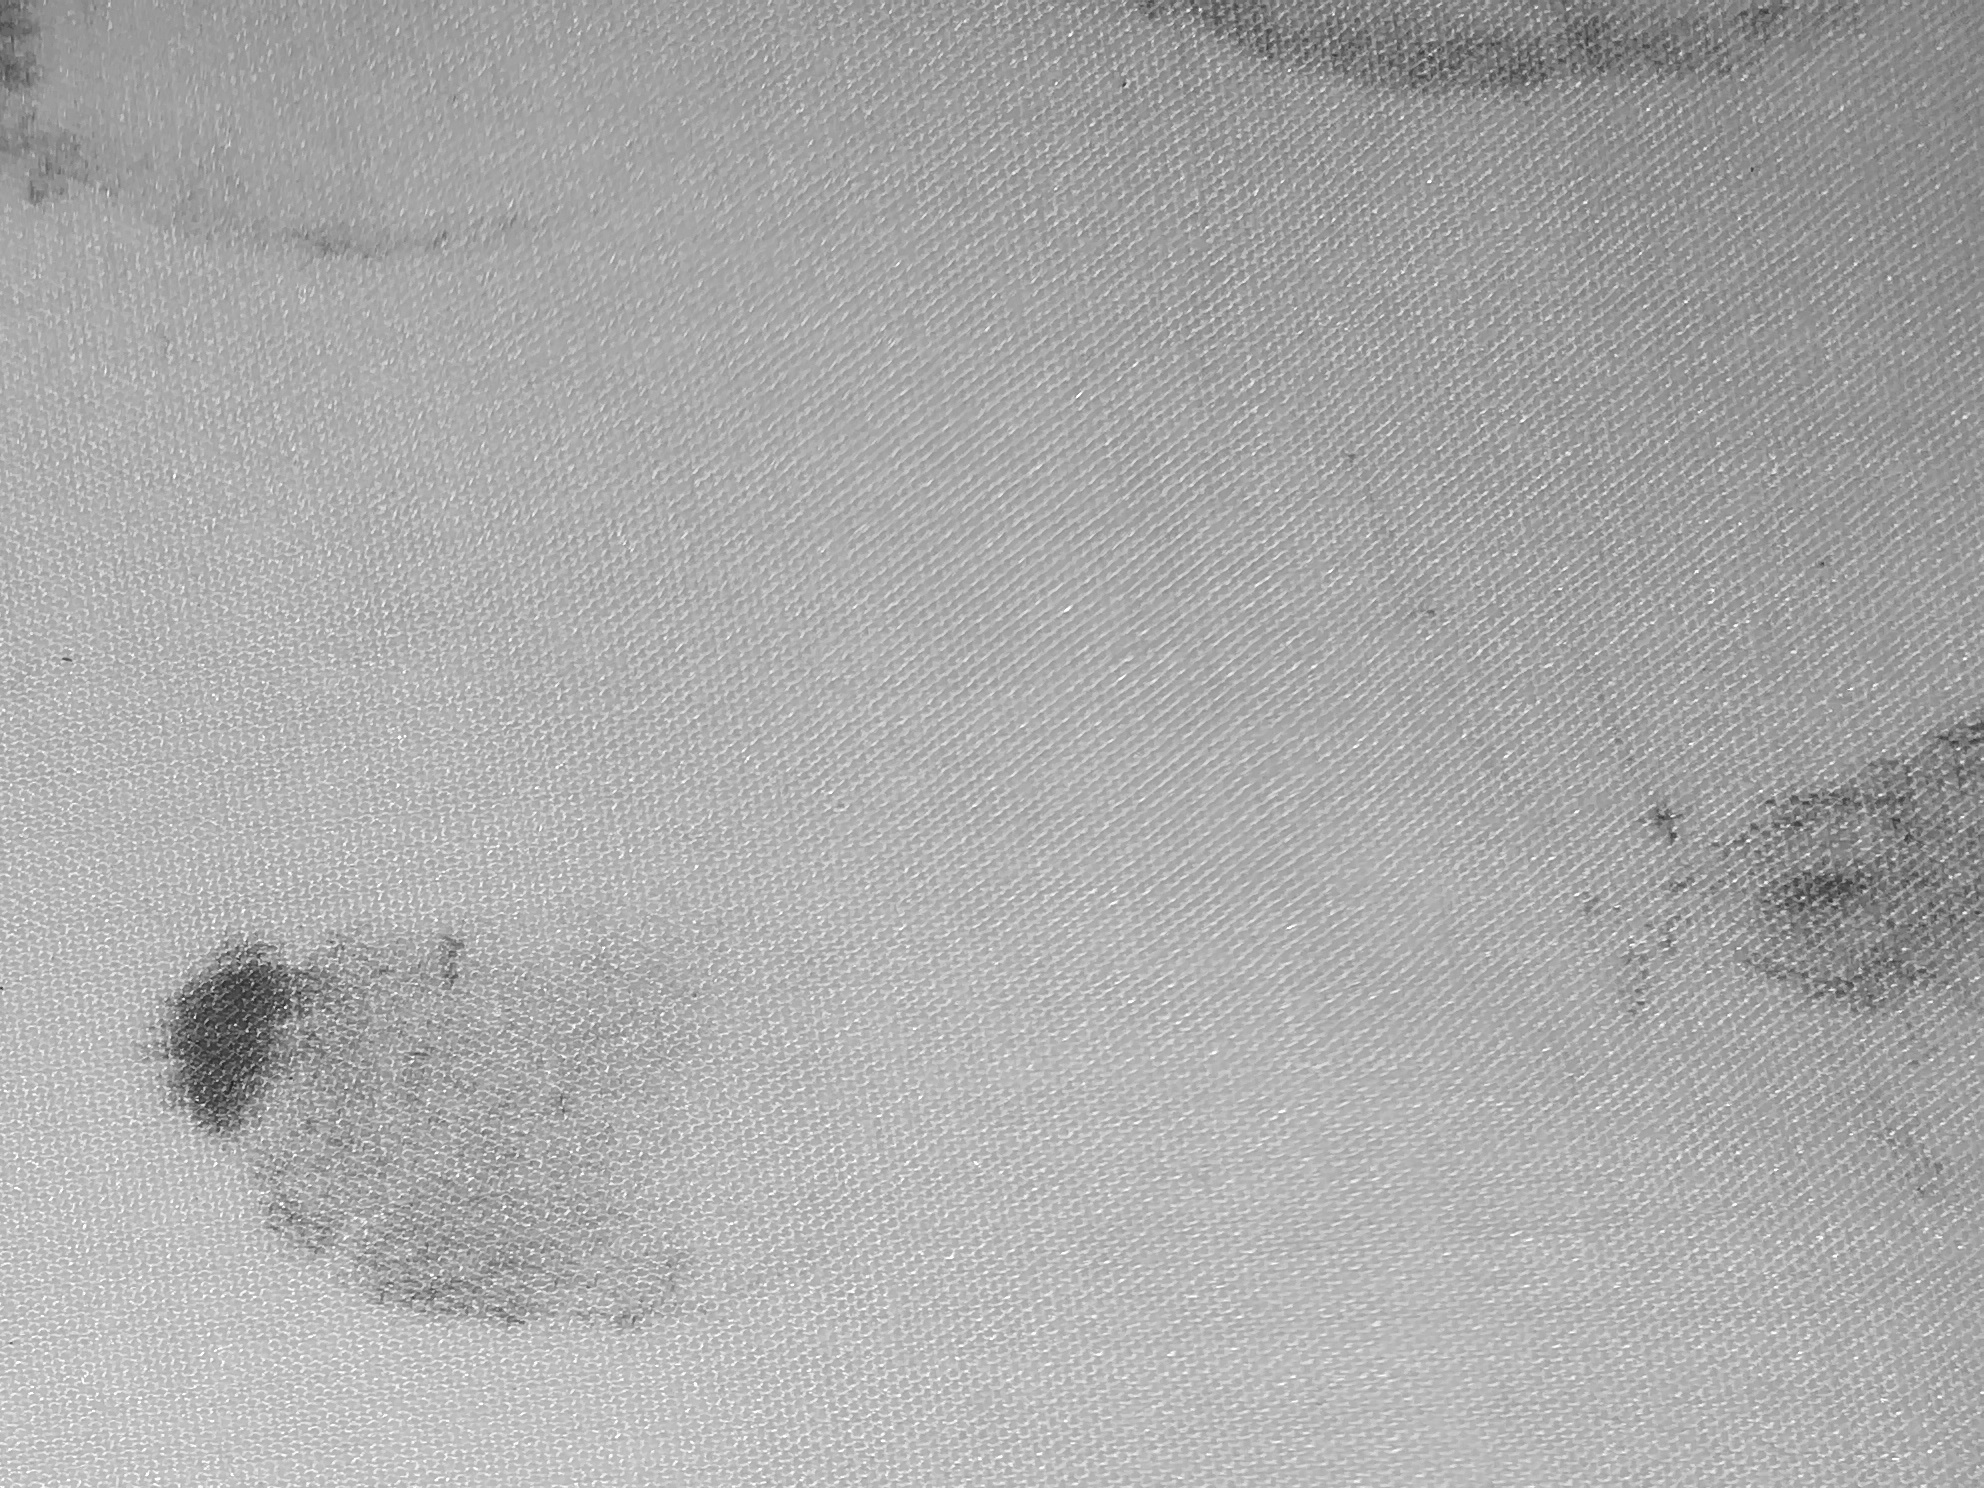Stain: (100, 794, 828, 1382), (1564, 649, 1984, 1096), (2, 2, 605, 313), (1026, 2, 1920, 153)
